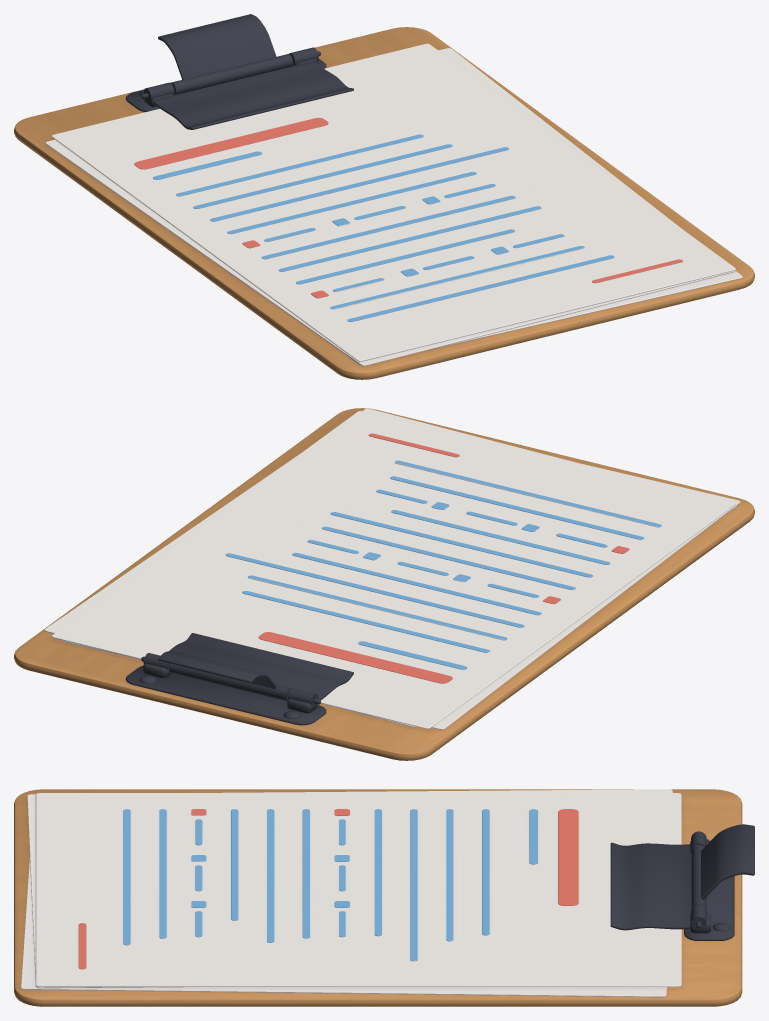
File: clipboard.glb
3 views of the same model, one above another, from view 1: azimuth 30°, elevation 25°; view 2: azimuth 150°, elevation 25°; view 3: azimuth 270°, elevation 25° (orthographic). The views are drawn at different scales.
Visible parts, largest first — view 1: clipboard_body, clipboard_lever; view 2: clipboard_body, clipboard_lever; view 3: clipboard_body, clipboard_lever.
Part boxes in pixels (x1=…): clipboard_body: x1=14, y1=27, x2=754, y2=379; clipboard_lever: x1=154, y1=14, x2=353, y2=129; clipboard_body: x1=14, y1=408, x2=754, y2=760; clipboard_lever: x1=158, y1=633, x2=353, y2=701; clipboard_body: x1=14, y1=789, x2=742, y2=1006; clipboard_lever: x1=610, y1=824, x2=754, y2=930.
Size of the model in its own units: 0.23 by 0.0277 by 0.3408.
2 materials, 2 textured.
